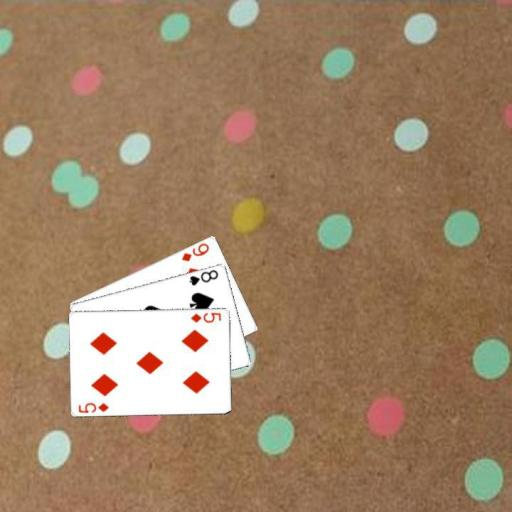5D: (188, 310, 223, 325), (76, 400, 111, 414)
8S: (186, 266, 220, 287)
9D: (179, 240, 211, 263)
